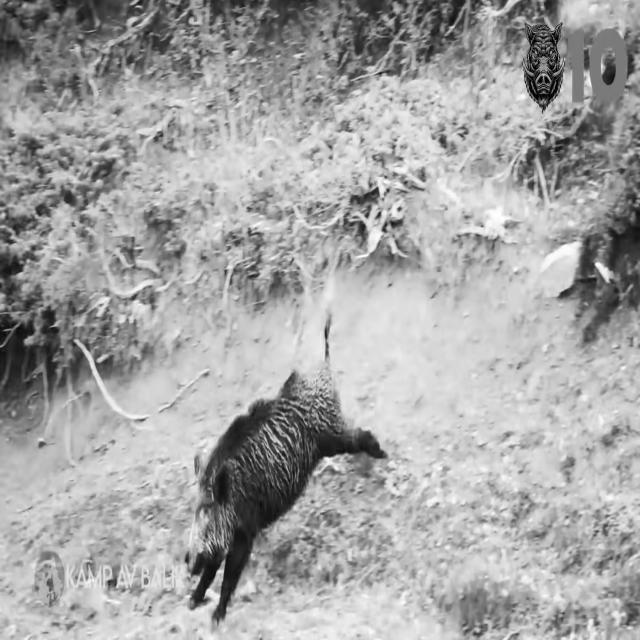boar: (185, 360, 385, 623), (523, 20, 566, 111)
